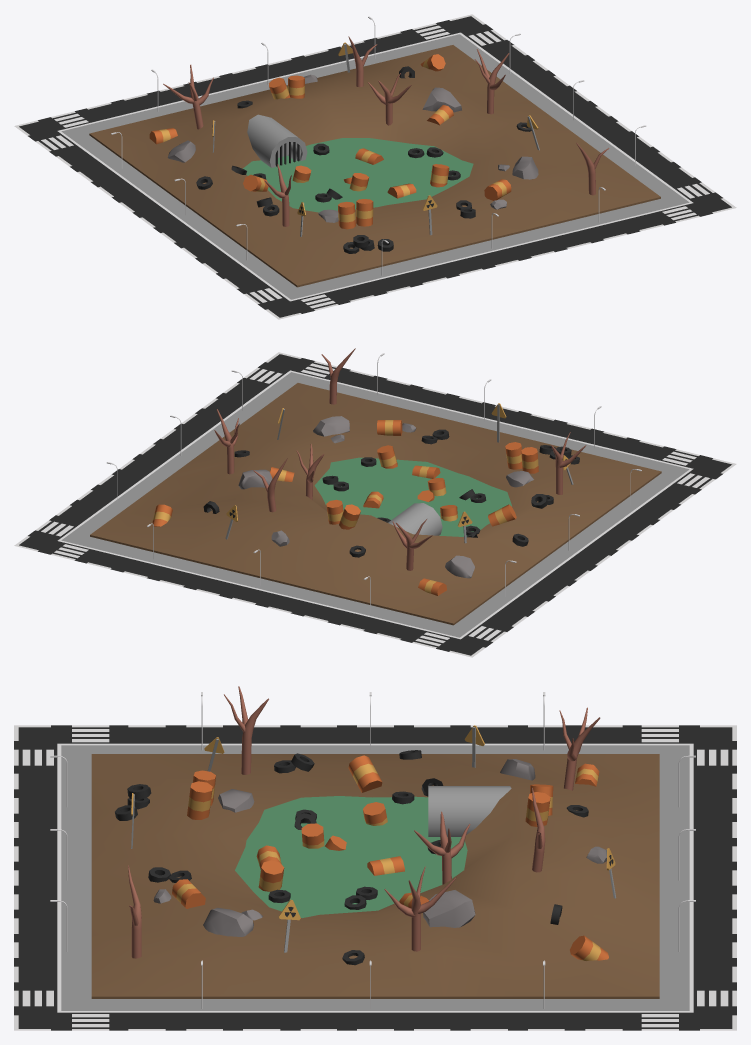
Rendered from GarbageDumpArea.fbx.
The picture shows the model from 3 angles, top to bottom: view 1: azimuth 30°, elevation 25°; view 2: azimuth 150°, elevation 25°; view 3: azimuth 270°, elevation 25°; orthographic projection. The views are drawn at different scales.
Visible parts, largest first — view 1: GarbageDumpArea; view 2: GarbageDumpArea; view 3: GarbageDumpArea.
Part boxes in pixels (<box>): GarbageDumpArea: <box>14,14,736,319</box>; GarbageDumpArea: <box>14,348,736,657</box>; GarbageDumpArea: <box>14,686,736,1030</box>.
Size of the model in its own units: 1000 by 200 by 1000.
Materials: 1 (1 with a texture image).
